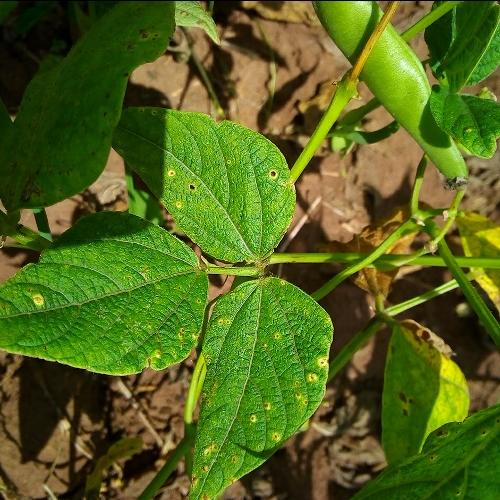hawar: (19, 248, 192, 388), (200, 302, 328, 458), (154, 120, 294, 256)
